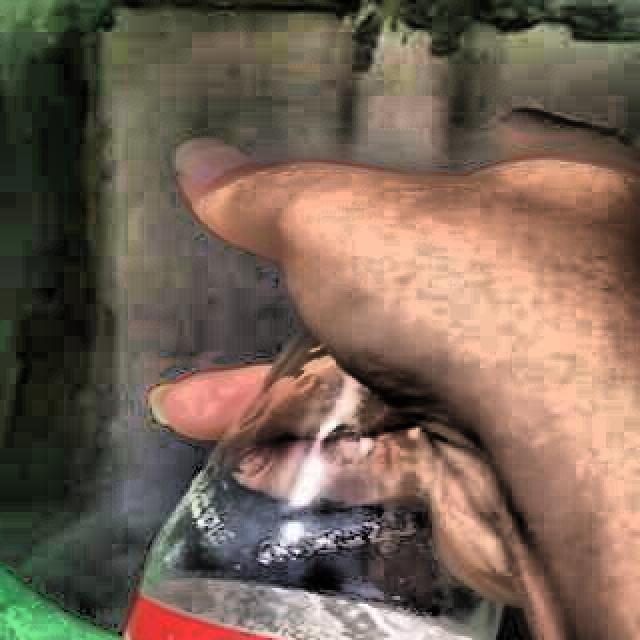glass: (126, 338, 501, 640)
